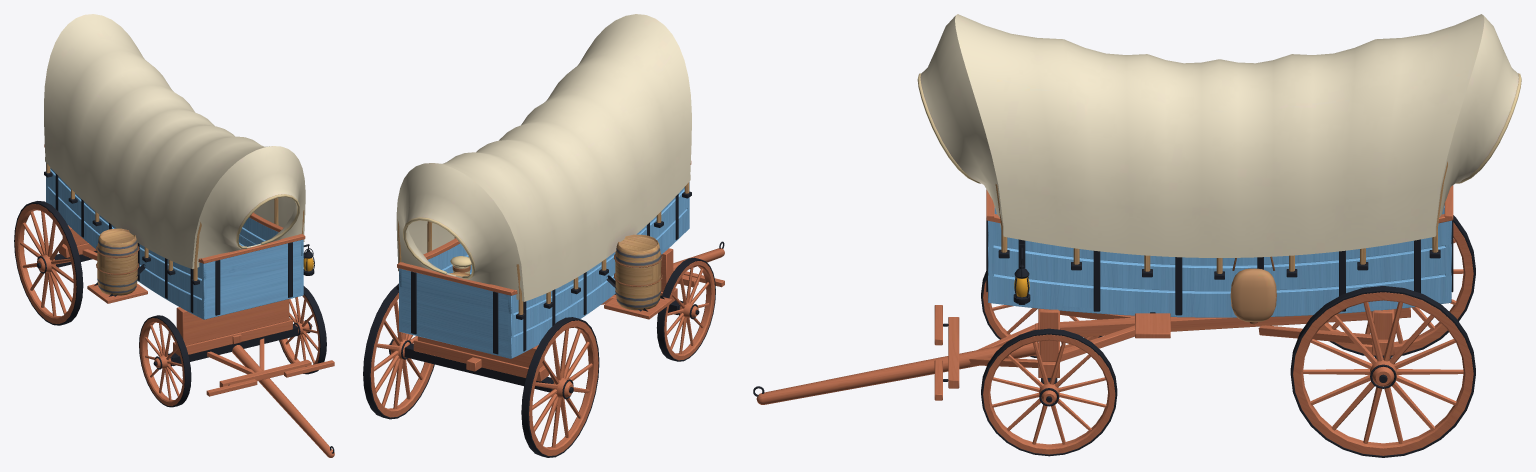
Rendered from covered-wagon.obj.
3 views of the same model, side by side, from view 1: azimuth 30°, elevation 25°; view 2: azimuth 150°, elevation 25°; view 3: azimuth 270°, elevation 25° (orthographic). The views are drawn at different scales.
Visible parts, largest first — view 1: covered-wagon_body, covered-wagon_wagonbed, covered-wagon_gear, covered-wagon_wheel_rr, covered-wagon_wheel_fr, covered-wagon_wheel_fl, covered-wagon_bows; view 2: covered-wagon_body, covered-wagon_wagonbed, covered-wagon_wheel_rr, covered-wagon_gear, covered-wagon_wheel_rl, covered-wagon_wheel_fr, covered-wagon_bows; view 3: covered-wagon_body, covered-wagon_wagonbed, covered-wagon_gear, covered-wagon_wheel_rl, covered-wagon_wheel_fl, covered-wagon_wheel_rr, covered-wagon_bows, covered-wagon_wheel_fr.
Part boxes in pixels (box(x1,y1,x2,y2)): covered-wagon_body: box(44, 14, 305, 295); covered-wagon_wagonbed: box(44, 144, 305, 319); covered-wagon_gear: box(55, 225, 334, 457); covered-wagon_wheel_rr: box(14, 201, 83, 325); covered-wagon_wheel_fr: box(139, 315, 191, 407); covered-wagon_wheel_fl: box(279, 286, 326, 374); covered-wagon_bows: box(46, 163, 304, 280); covered-wagon_body: box(396, 14, 691, 310); covered-wagon_wagonbed: box(396, 161, 691, 358); covered-wagon_wheel_rr: box(521, 317, 599, 457); covered-wagon_gear: box(404, 241, 724, 392); covered-wagon_wheel_rl: box(363, 283, 434, 419); covered-wagon_wheel_fr: box(656, 257, 715, 361); covered-wagon_bows: box(398, 182, 689, 314); covered-wagon_body: box(917, 14, 1521, 324); covered-wagon_wagonbed: box(986, 185, 1453, 317); covered-wagon_gear: box(753, 305, 1410, 404); covered-wagon_wheel_rl: box(1290, 286, 1475, 457); covered-wagon_wheel_fl: box(981, 328, 1117, 456); covered-wagon_wheel_rr: box(1319, 215, 1475, 356); covered-wagon_bows: box(995, 161, 1447, 273); covered-wagon_wheel_fr: box(981, 271, 1102, 357).
Bounding box in the file's own units: 2.12 × 3.12 × 5.64.
7 materials, 4 textured.
